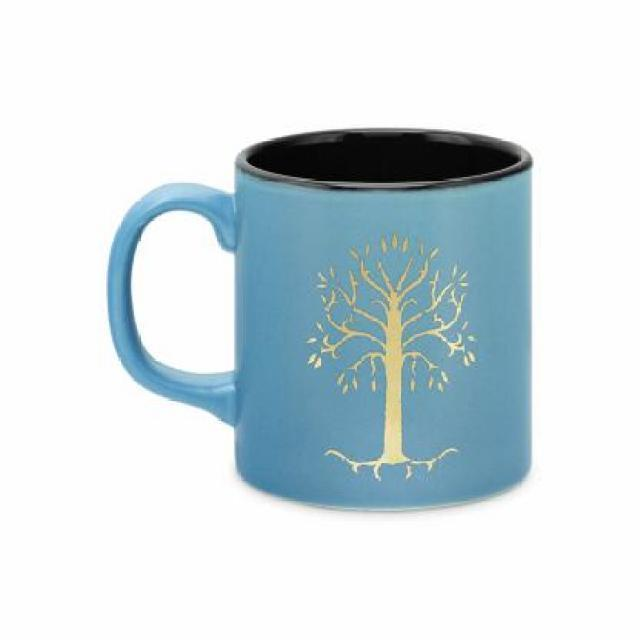taza: (106, 128, 534, 514)
